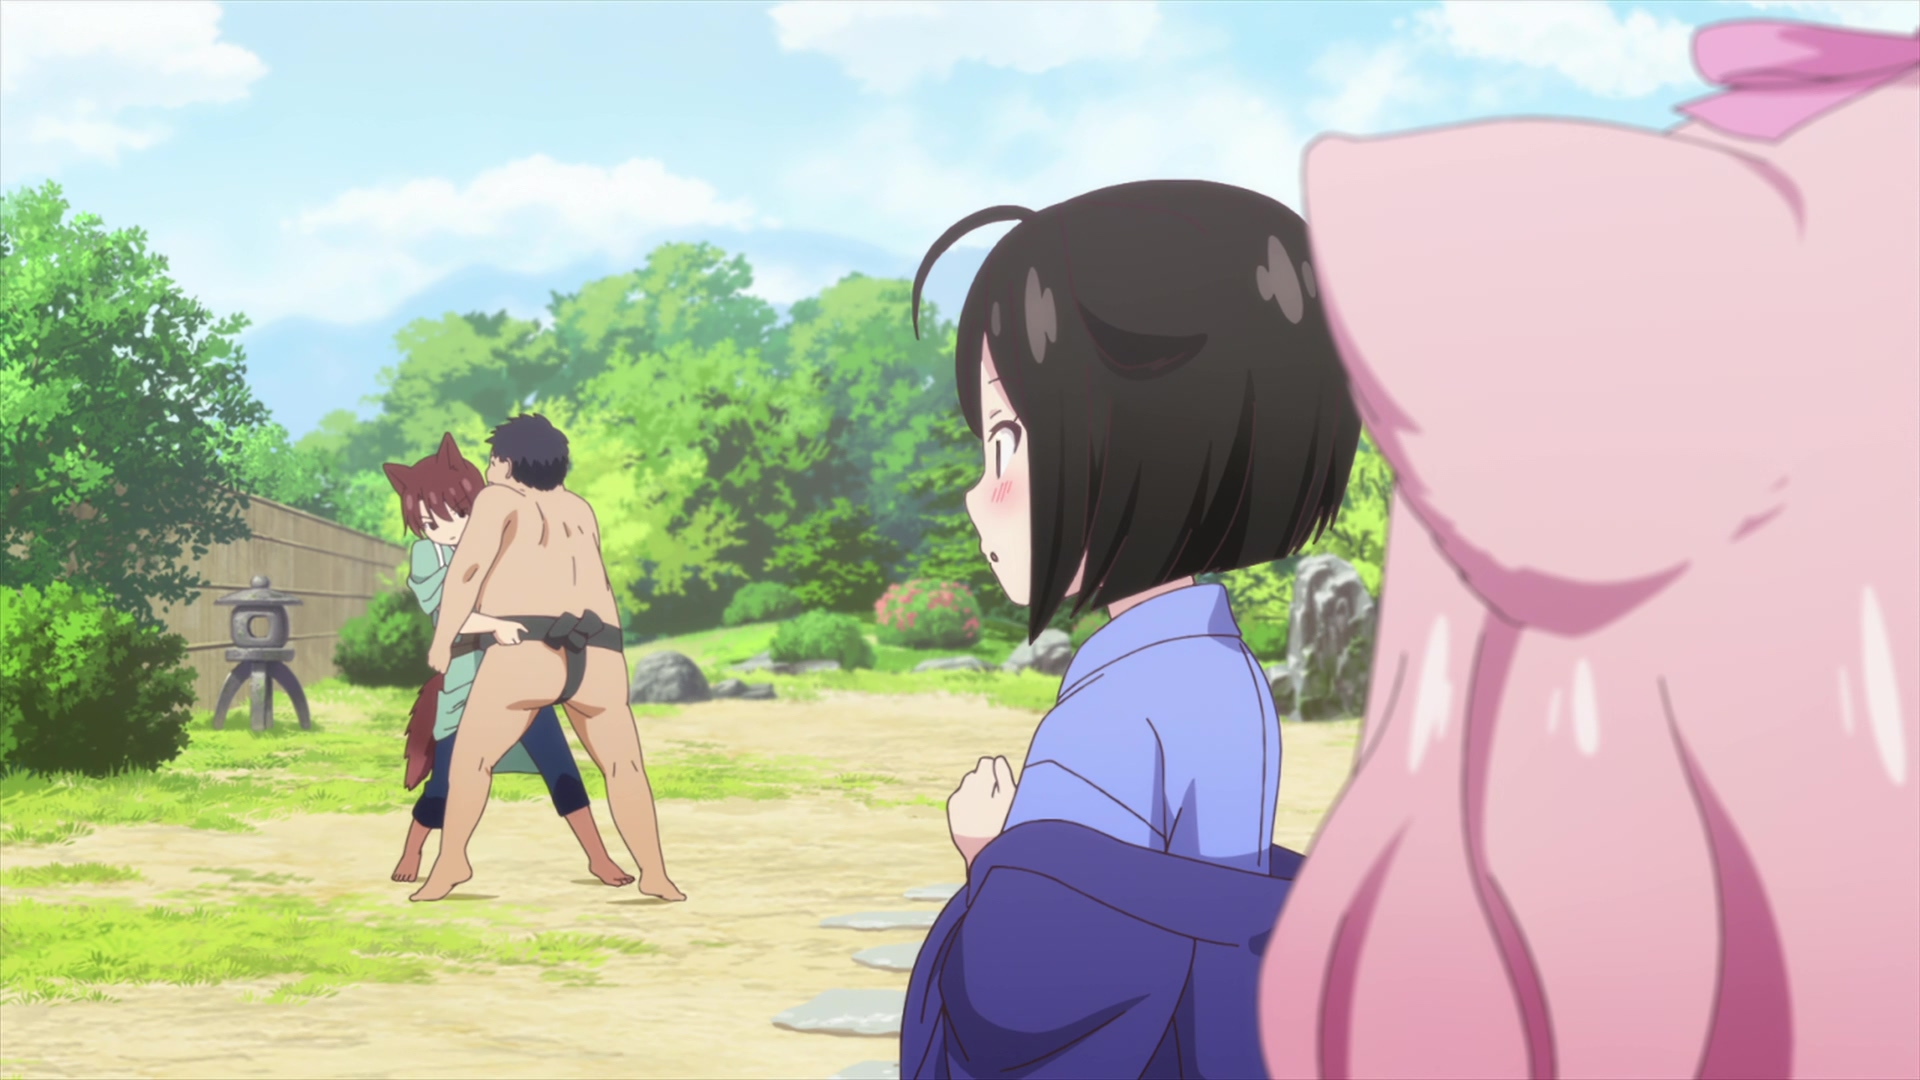其他: (901, 179, 1362, 1080), (410, 419, 680, 901)
枣: (382, 434, 630, 885)
莲: (1255, 17, 1920, 1080)
